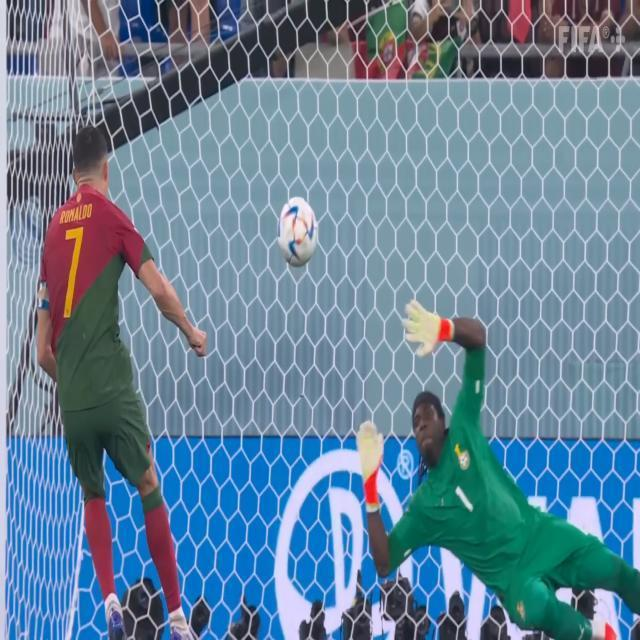football: (268, 175, 327, 271)
